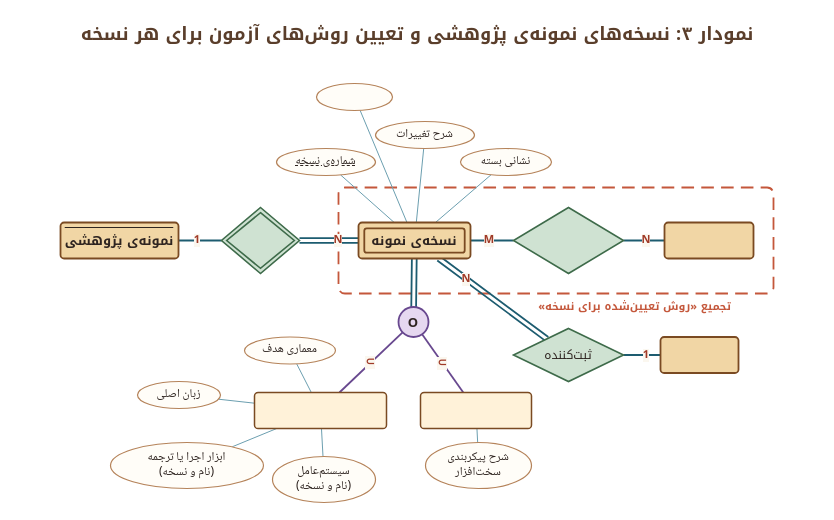
Image size: 834x520. Some labels were removed from this diagram. The centre of each missing label's shape, as x and y in pixels:
"تعیین‌شده برای" belongs at pixel 568 240.
"دارای نسخه" belongs at pixel 260 240.
"روش آزمون" belongs at pixel 708 240.
"زمان ثبت" belongs at pixel 354 96.
"نسخه‌ی فیزیکی" belongs at pixel 475 410.
"نسخه‌ی نرم‌افزاری" belongs at pixel 320 410.
"پژوهشگر" belongs at pixel 699 354.
